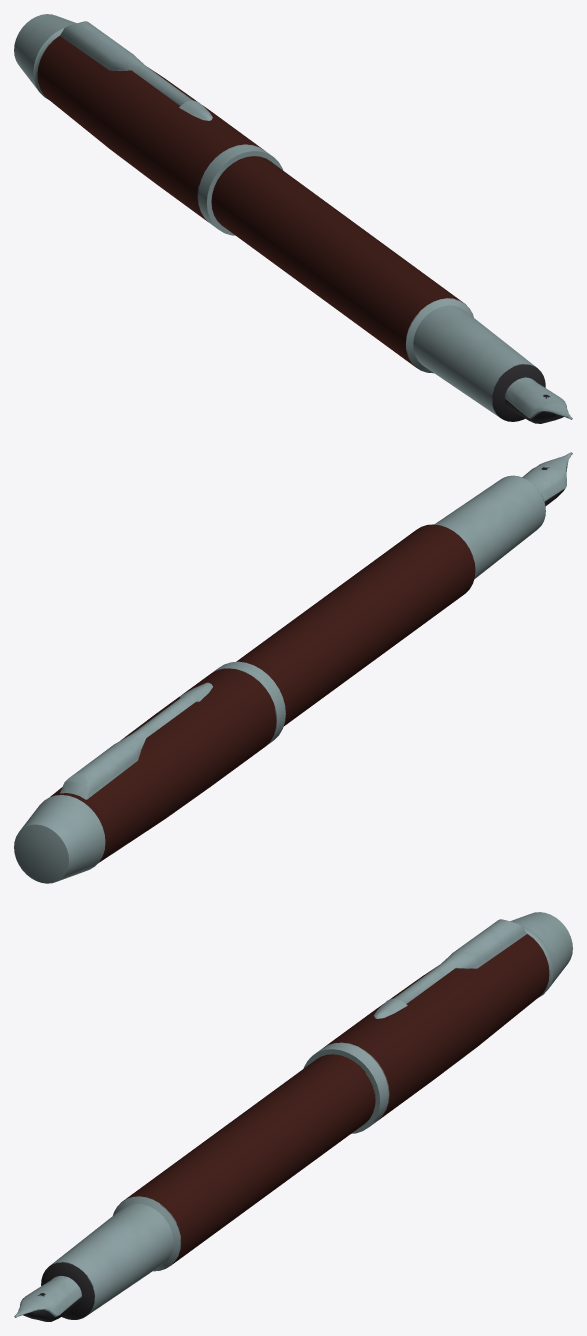
File: pluma.glb
3 renders of one model, top to bottom at view 1: azimuth 30°, elevation 25°; view 2: azimuth 150°, elevation 25°; view 3: azimuth 330°, elevation 25°, orthographic.
Parts seen in each view (by area): view 1: Circle; view 2: Circle; view 3: Circle.
Part boxes in pixels (<box>): Circle: <box>14,14,572,423</box>; Circle: <box>14,452,572,883</box>; Circle: <box>14,912,572,1321</box>.
Bounding box in the file's own units: 0.8457 × 0.9442 × 9.87.
Materials: 1 (1 with a texture image).
